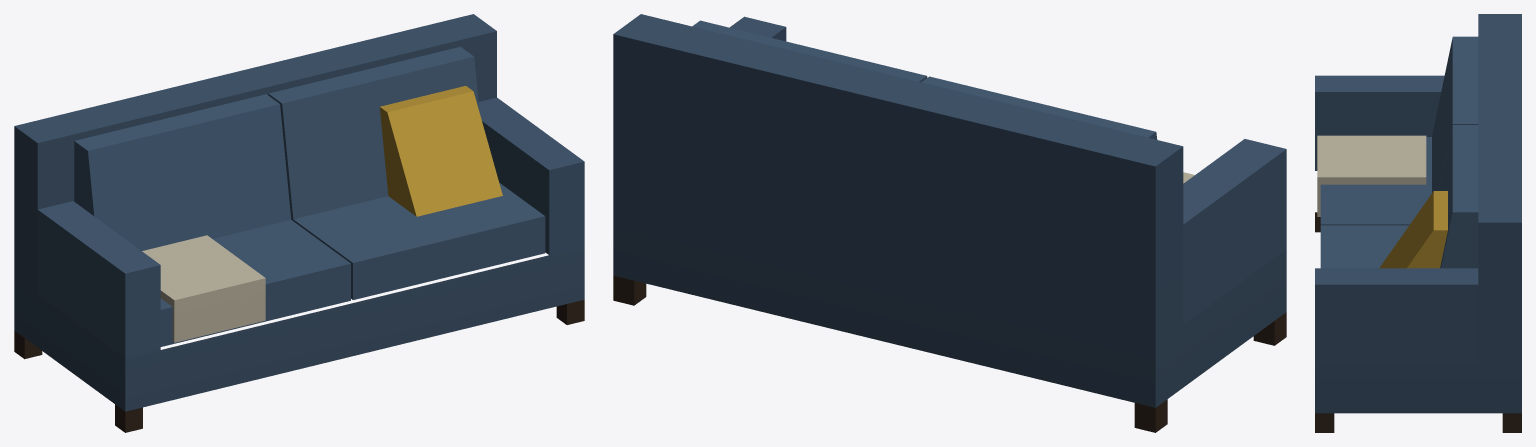
Rendered from sofa.two_seat.blue.glb.
3 renders of one model, left to right at view 1: azimuth 30°, elevation 25°; view 2: azimuth 150°, elevation 25°; view 3: azimuth 270°, elevation 25°, orthographic. The views are drawn at different scales.
Parts seen in each view (by area): view 1: sofa_two_seat_blue; view 2: sofa_two_seat_blue; view 3: sofa_two_seat_blue.
Part boxes in pixels (x1,y1,x2,y2): sofa_two_seat_blue: [14, 14, 584, 432]; sofa_two_seat_blue: [613, 14, 1286, 432]; sofa_two_seat_blue: [1315, 14, 1521, 432].
Size of what is drawn, in the model's own units: 1.81 by 0.85 by 0.758.
